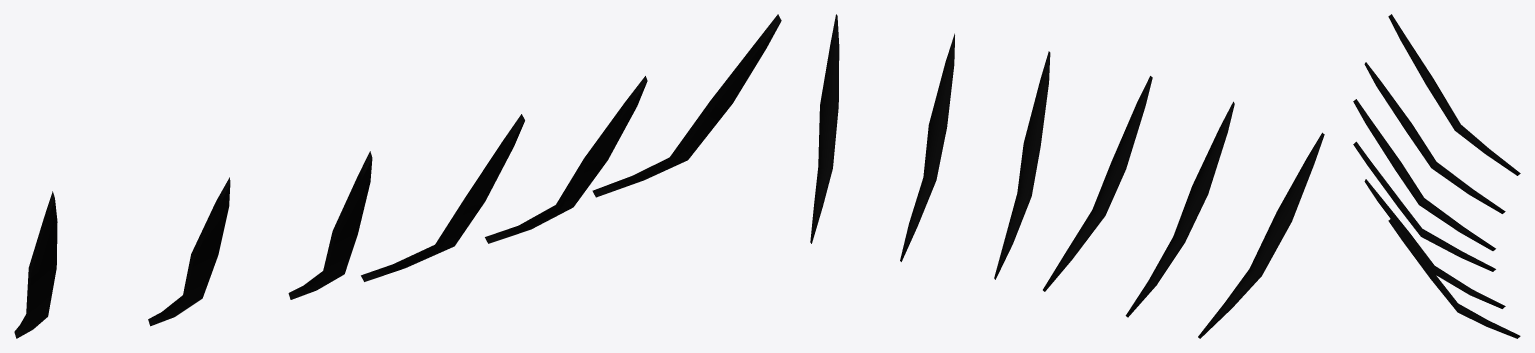
Rendered from stubble.obj.
The picture shows the model from 3 angles, left to right: view 1: azimuth 30°, elevation 25°; view 2: azimuth 150°, elevation 25°; view 3: azimuth 270°, elevation 25°; orthographic projection. The views are drawn at different scales.
Parts seen in each view (by area): view 1: stubble; view 2: stubble; view 3: stubble.
Boxes of the visible parts, x1,y1,x2,y2 form: stubble: (14, 14, 781, 338); stubble: (810, 14, 1324, 338); stubble: (1353, 14, 1520, 338).
Bounding box in the file's own units: 0.372 × 0.1238 × 0.129.
